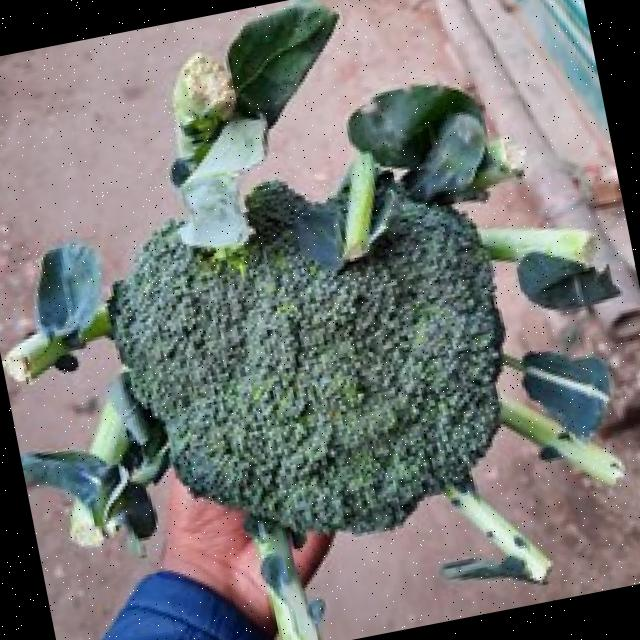Broccoli: (111, 183, 503, 534), (115, 183, 504, 534)
